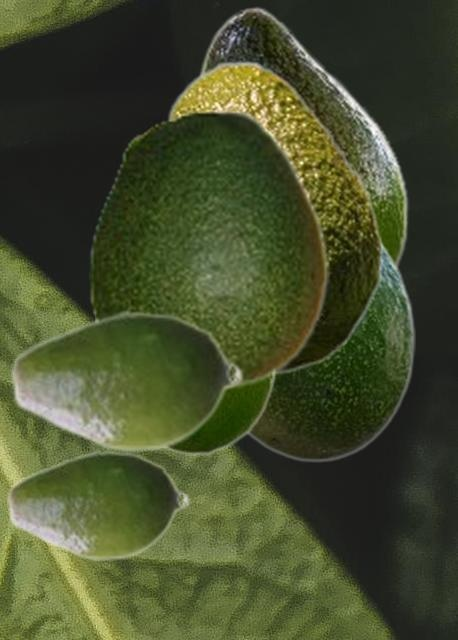avocado: (163, 60, 383, 374), (88, 108, 328, 390), (195, 6, 408, 270), (246, 239, 414, 462), (8, 308, 244, 454), (5, 448, 190, 562), (164, 377, 276, 454)
